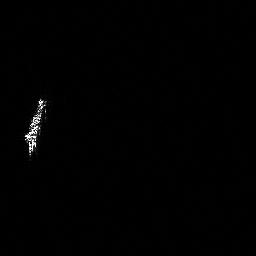ship: (21, 96, 49, 157)
